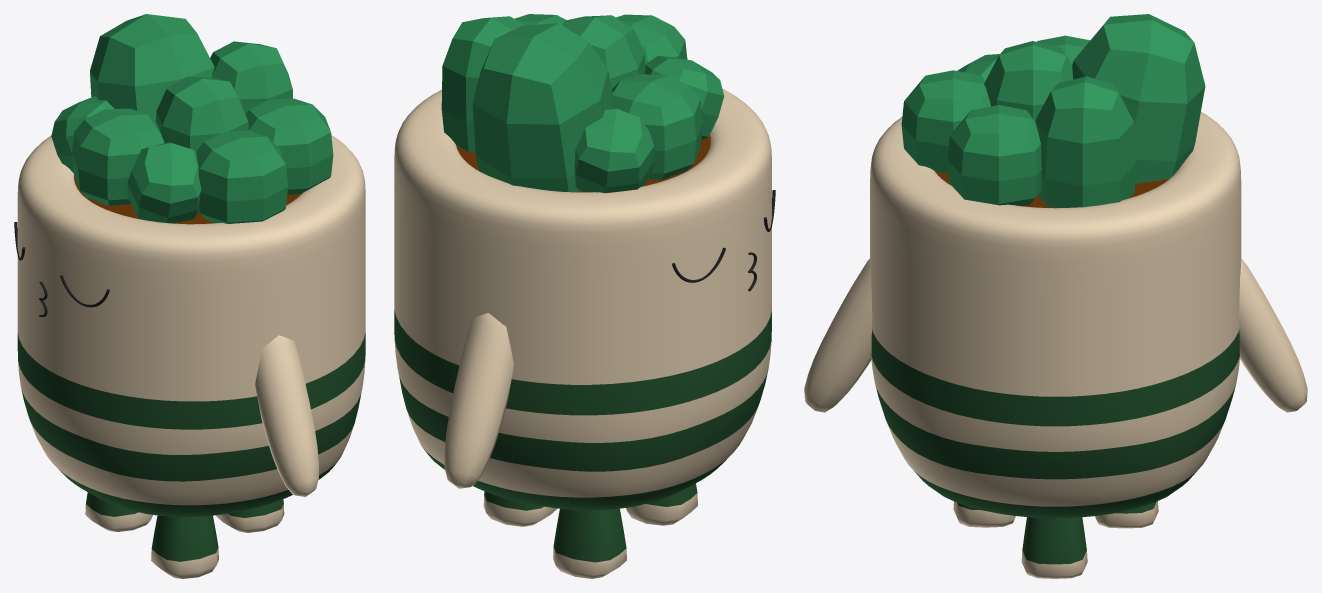
Rendered from vegesims.glb.
3 views of the same model, side by side, from view 1: azimuth 30°, elevation 25°; view 2: azimuth 150°, elevation 25°; view 3: azimuth 270°, elevation 25° (orthographic). The views are drawn at different scales.
Visible parts, largest first — view 1: body, hair.007, hair, arm-left, hair.005, hair.002, hair.004, hair.001, hair.003, leg-left, hair.006, leg-right (+2 smaller); view 2: body, hair.007, arm-right, hair.005, hair.006, hair.003, leg-right, hair.001, hair.004, hair, leg-left, leg-back (+1 smaller); view 3: body, hair.007, hair.003, hair.002, arm-right, hair, arm-left, hair.001, leg-back, leg-right, leg-left, hair.005.
Boxes of the visible parts, x1,y1,x2,y2 form: body: (17, 135, 365, 517); hair.007: (90, 14, 214, 121); hair: (196, 131, 287, 223); arm-left: (255, 335, 318, 496); hair.005: (72, 108, 164, 205); hair.002: (245, 98, 333, 194); hair.004: (127, 142, 201, 223); hair.001: (155, 76, 248, 150); hair.003: (210, 41, 292, 113); leg-left: (151, 515, 218, 578); hair.006: (51, 96, 114, 172); leg-right: (85, 492, 152, 531); body: (394, 88, 771, 510); hair.007: (472, 23, 612, 192); arm-right: (444, 313, 513, 488); hair.005: (610, 74, 702, 179); hair.006: (574, 108, 654, 193); hair.003: (441, 16, 524, 152); leg-right: (553, 508, 626, 578); hair.001: (562, 15, 645, 88); hair.004: (644, 55, 724, 139); hair: (616, 14, 687, 63); leg-left: (626, 483, 697, 525); leg-back: (483, 491, 557, 526); body: (870, 112, 1241, 518); hair.007: (1072, 14, 1205, 183); hair.003: (1035, 76, 1136, 207); hair.002: (947, 105, 1041, 206); arm-right: (1239, 258, 1307, 412); hair: (901, 70, 990, 173); arm-left: (804, 258, 872, 412); hair.001: (984, 41, 1073, 121); leg-back: (1021, 517, 1087, 578); leg-right: (1095, 501, 1158, 528); leg-left: (953, 501, 1015, 527); hair.005: (1037, 35, 1089, 64).
Size of the model in its own units: 2 by 3.08 by 2.7.
